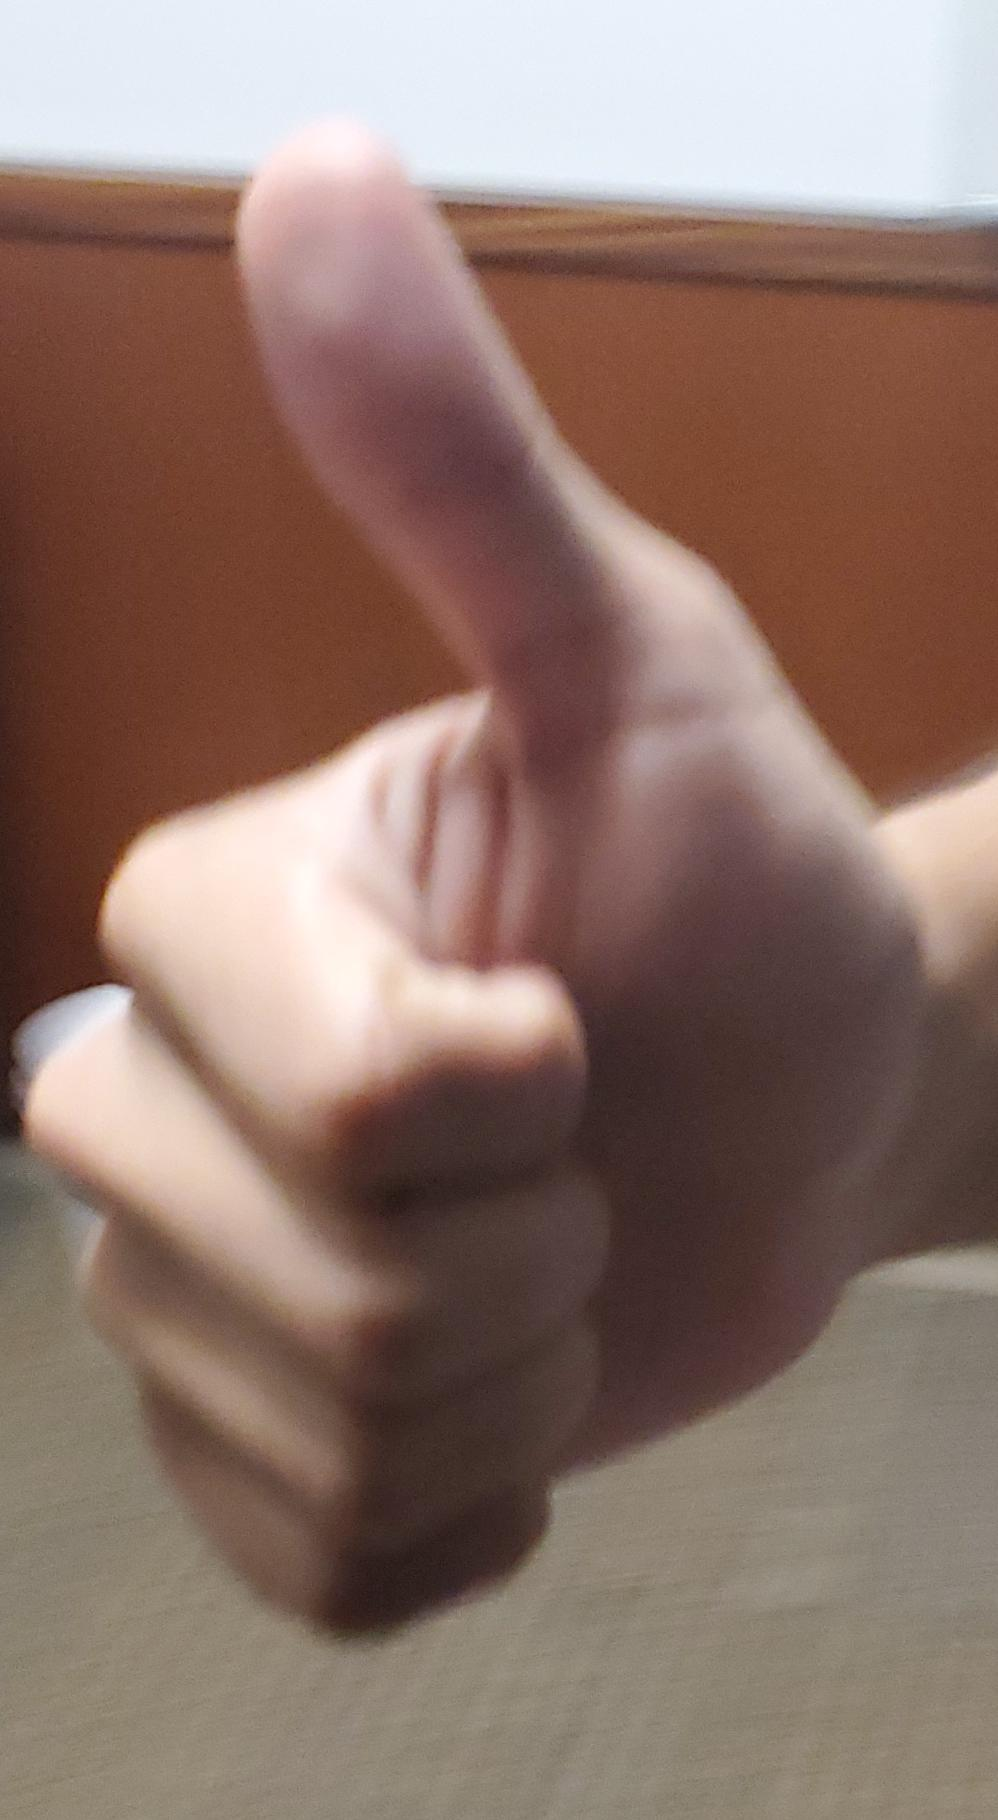up: (0, 1, 998, 1820)
